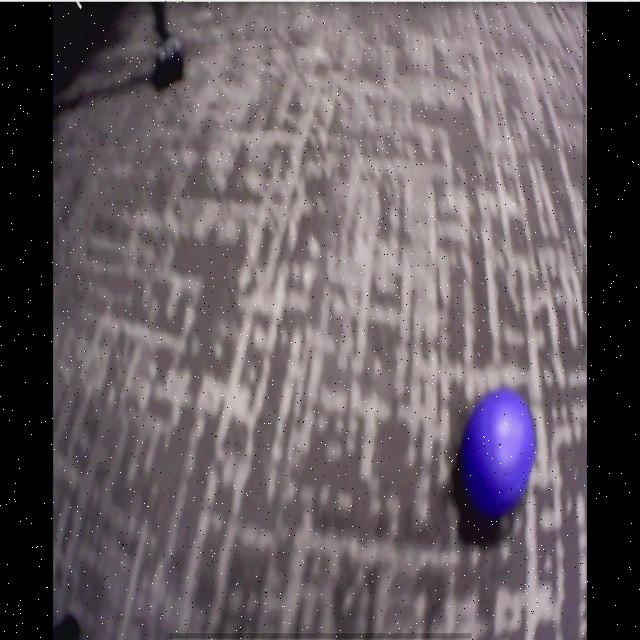ball: (464, 391, 536, 510)
